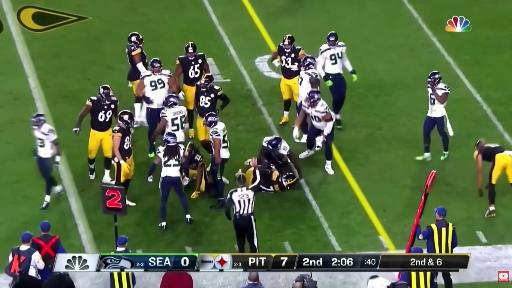Helmet: (117, 110, 135, 128), (98, 85, 113, 103), (306, 90, 321, 107), (301, 55, 316, 71), (282, 34, 295, 52), (267, 136, 282, 151), (204, 113, 219, 128), (200, 74, 214, 89), (164, 94, 179, 108), (31, 113, 46, 127), (128, 32, 143, 46), (185, 42, 197, 59), (326, 31, 338, 48), (150, 58, 162, 74), (163, 132, 177, 145), (428, 71, 441, 85), (283, 173, 297, 185), (184, 141, 195, 156), (475, 139, 485, 149)
Jersey: (141, 70, 171, 108), (86, 97, 118, 131), (160, 106, 187, 142), (302, 100, 334, 130), (177, 53, 206, 86), (195, 83, 223, 117), (277, 44, 304, 79), (157, 145, 184, 177), (317, 43, 345, 73), (33, 124, 57, 157), (126, 44, 147, 81), (209, 122, 229, 158), (113, 125, 132, 160), (299, 69, 319, 102), (257, 165, 282, 191), (427, 87, 447, 117), (479, 144, 505, 162), (187, 148, 203, 169), (278, 140, 290, 155)
Player: (73, 85, 118, 183), (148, 132, 193, 229), (136, 58, 178, 157), (317, 32, 357, 128), (293, 90, 334, 174), (175, 42, 210, 137), (416, 71, 453, 160), (31, 113, 62, 209), (272, 35, 305, 124), (474, 139, 511, 217), (195, 74, 230, 154), (204, 113, 229, 208), (126, 32, 147, 126), (151, 94, 189, 144), (258, 136, 301, 178), (113, 111, 134, 192), (183, 142, 209, 198), (297, 56, 319, 115), (257, 163, 297, 192)
